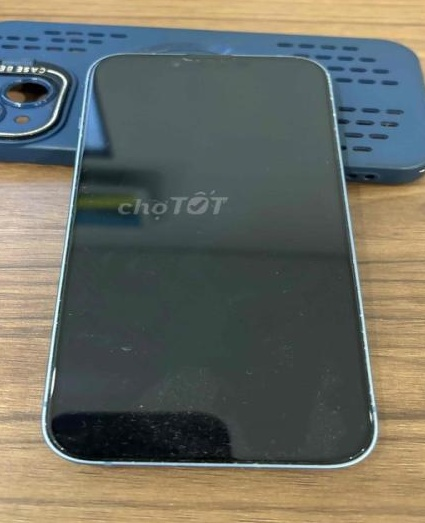scratch: (133, 43, 266, 75), (263, 263, 315, 318), (96, 333, 148, 359)
